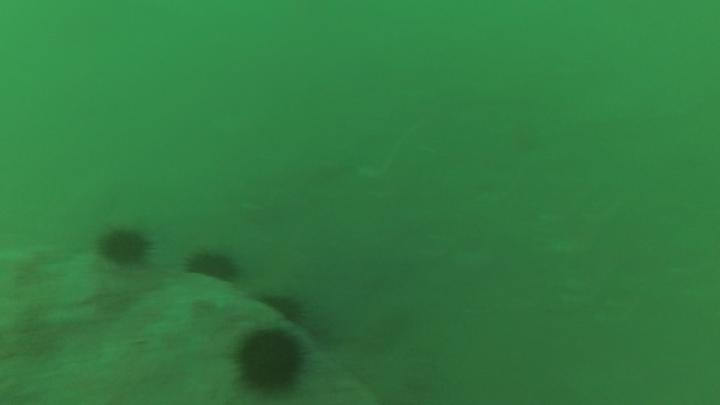echinus: (227, 317, 321, 404), (96, 219, 158, 268), (181, 248, 244, 288)
